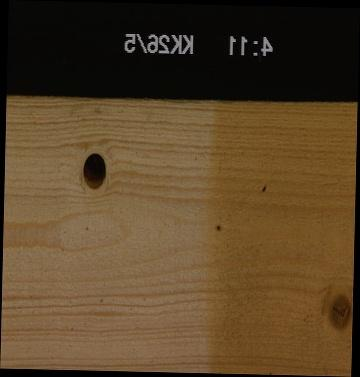small_knot: (212, 219, 223, 233)
sound_knot: (326, 289, 352, 333)
